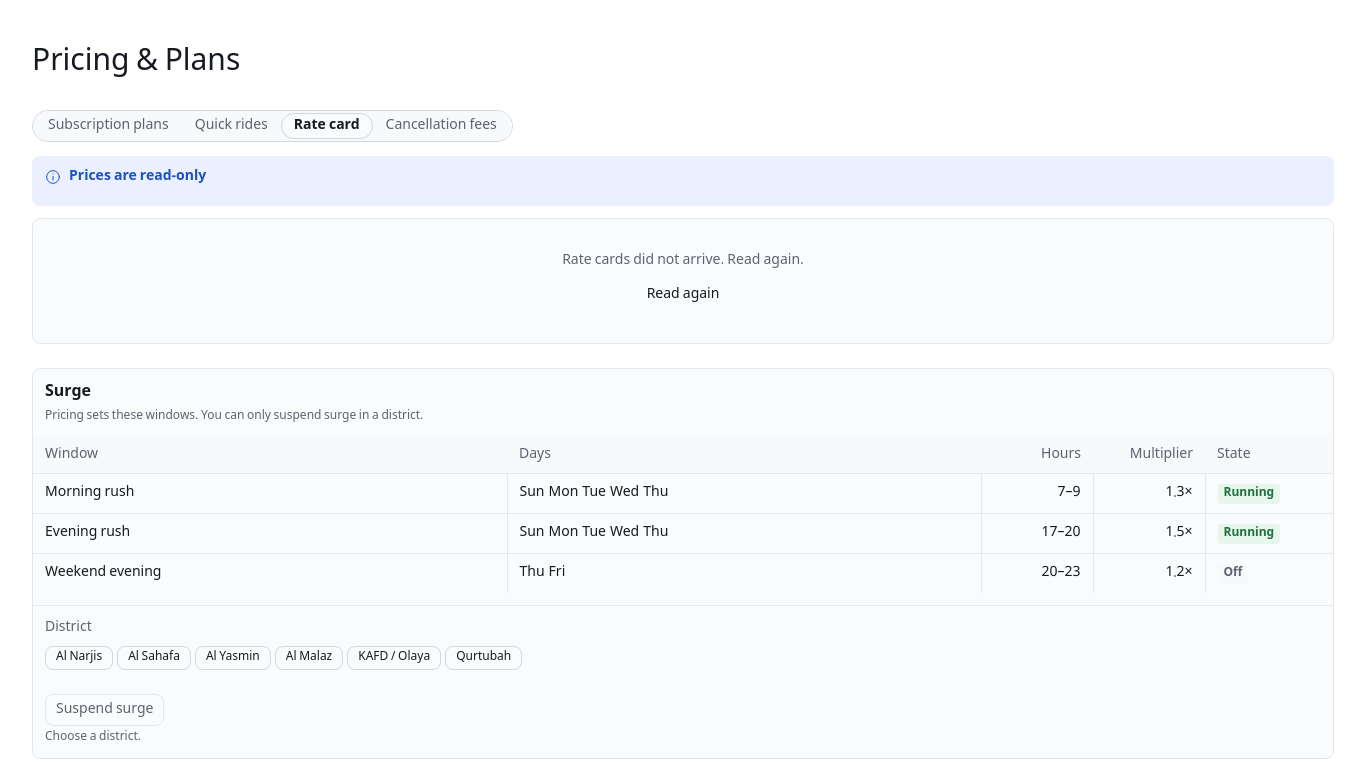
the block states › AC-RC-17 — a failed read collapses the block to one retry, and the surge cards still render
Expected: the text "Rate cards did not arrive. Read again." is shown, x1=562 y1=251 x2=804 y2=271
Expected: the heading "Surge" is shown, x1=45 y1=379 x2=91 y2=406
Click the button "Read again" at [683, 295], box x1=636 y1=279 x2=730 y2=311
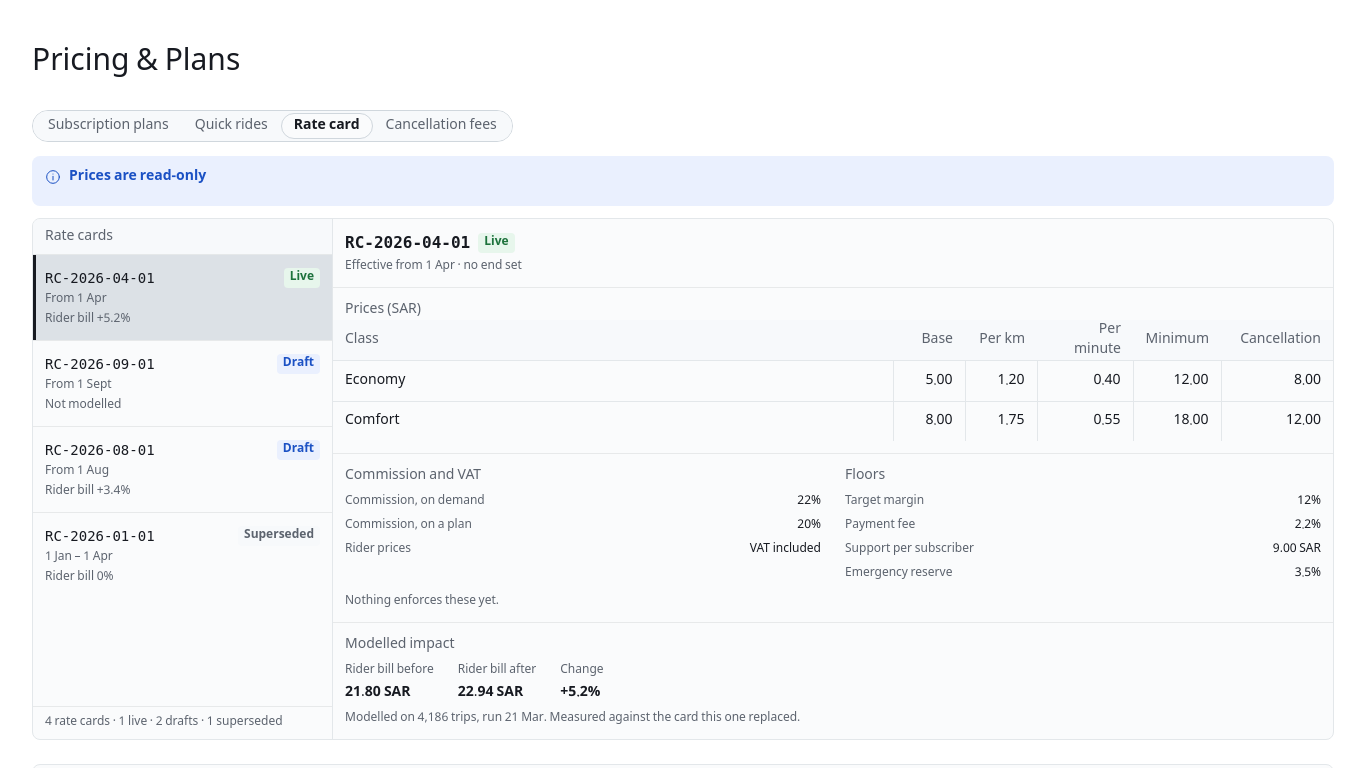
Expected: the list named "Rate cards" is shown, x1=33 y1=255 x2=332 y2=598
